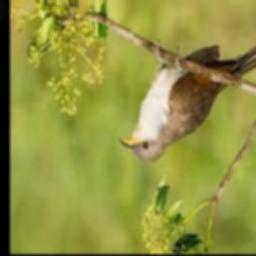Cuckoo: (118, 46, 256, 162)
